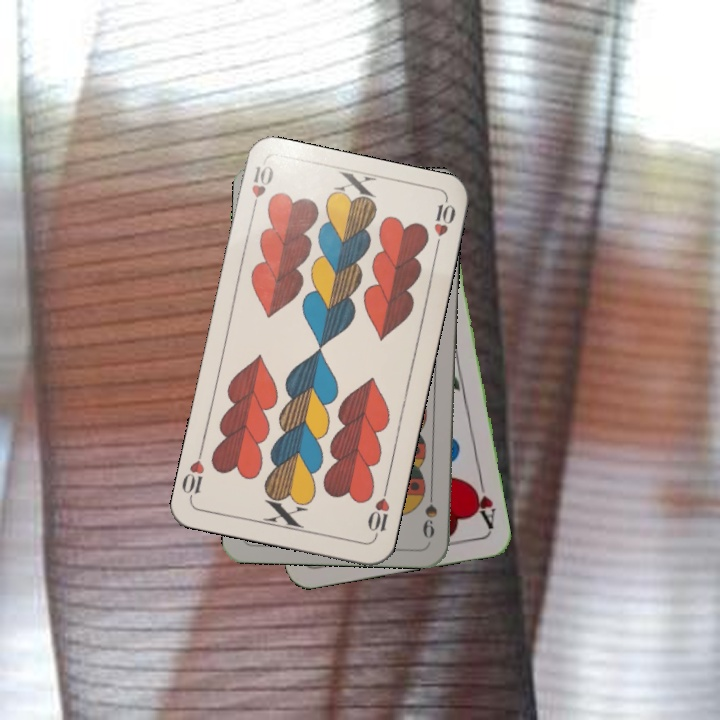H10: (363, 482, 393, 541), (247, 161, 277, 218)
HA: (466, 472, 499, 531)
S9: (416, 483, 440, 541)
